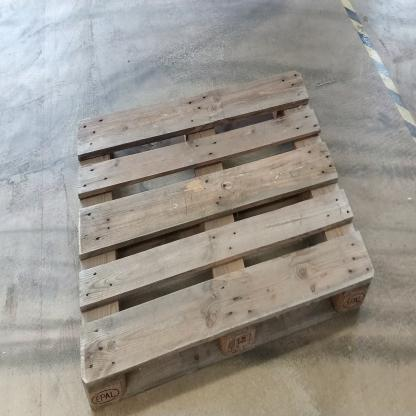BoxFace: (71, 61, 378, 412)
